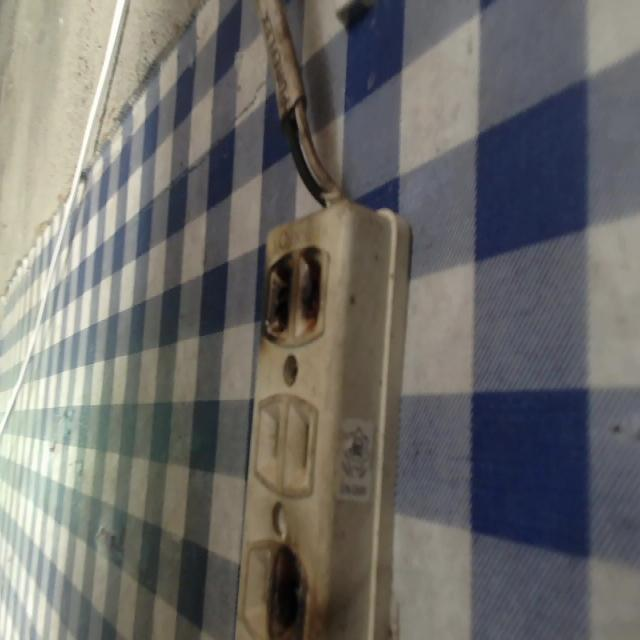-: (255, 237, 330, 348), (261, 538, 319, 638)
